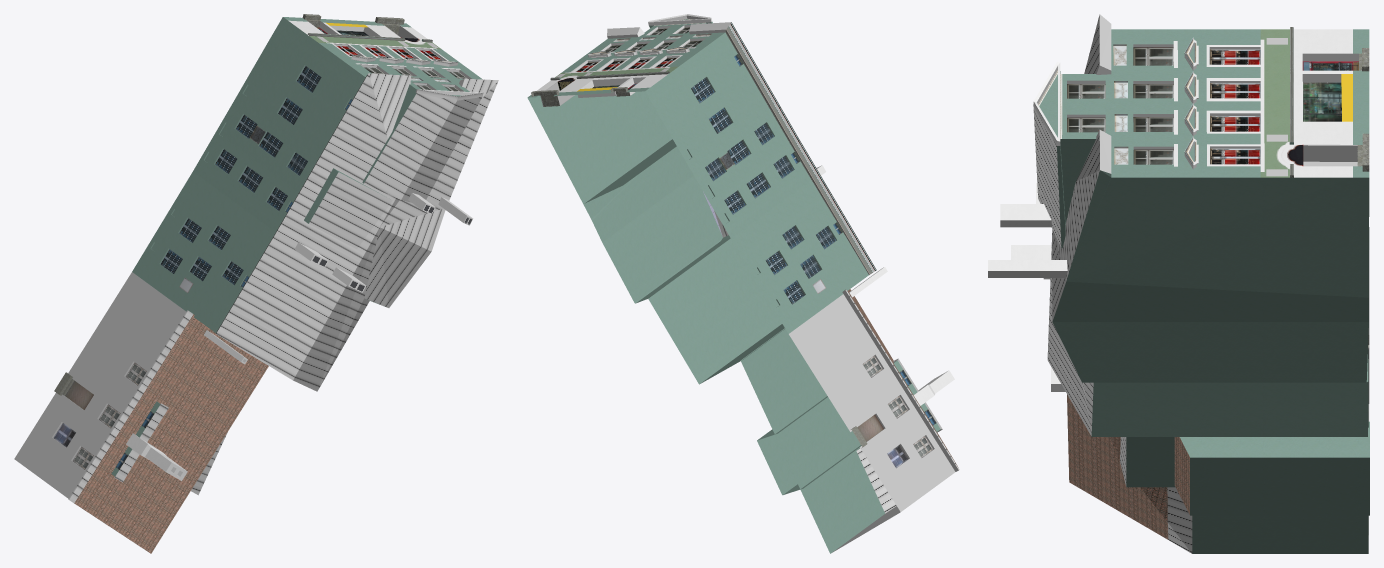
The model's file is Sauna_12.obj.
The picture shows the model from 3 angles, left to right: view 1: azimuth 30°, elevation 25°; view 2: azimuth 150°, elevation 25°; view 3: azimuth 270°, elevation 25°; orthographic projection. The views are drawn at different scales.
Visible parts, largest first — view 1: sauna12; view 2: sauna12; view 3: sauna12.
Boxes of the visible parts, bbox=[...] form: sauna12: bbox=[14, 14, 498, 553]; sauna12: bbox=[527, 14, 959, 553]; sauna12: bbox=[988, 14, 1369, 553].
Size of the model in its own units: 35.88 by 38.36 by 19.44.
